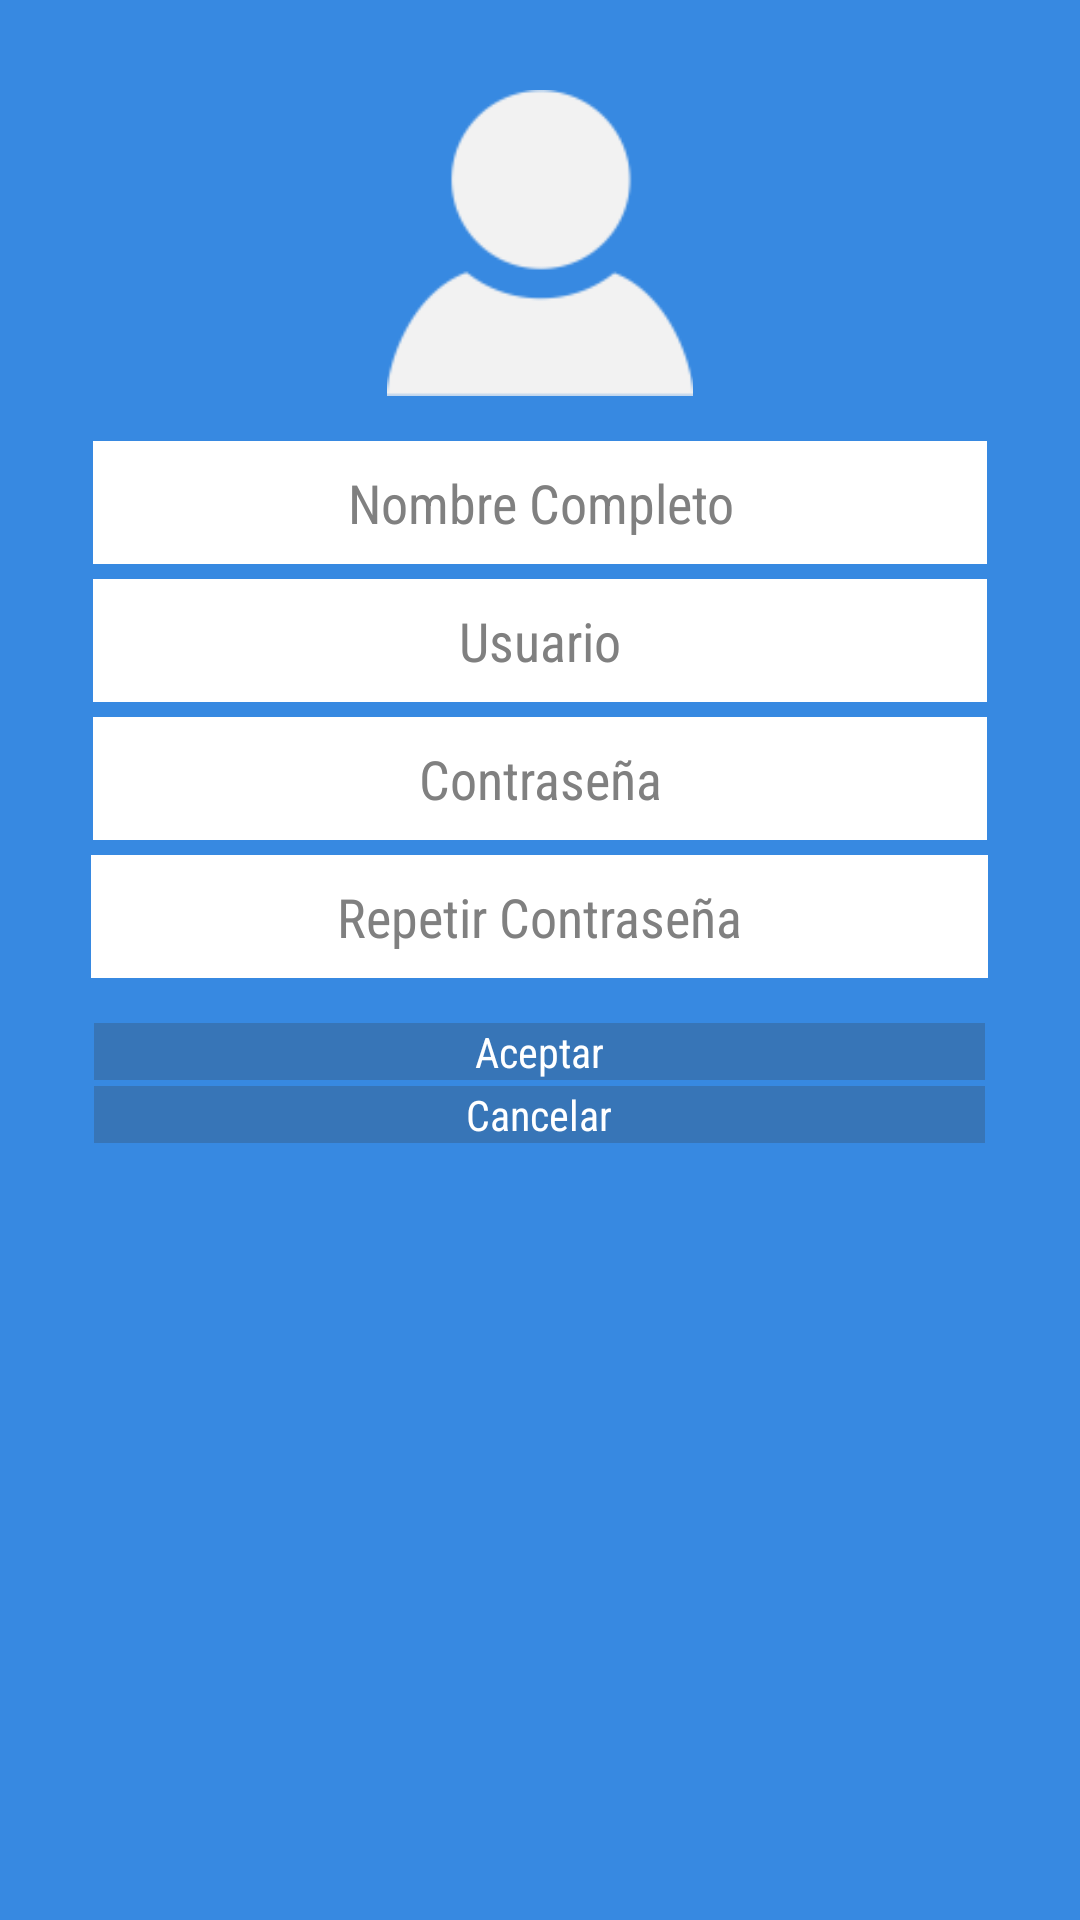

Icons on this 1080*1920 Android screen, each with the point to tap as [x,y]:
user: [540,243]
